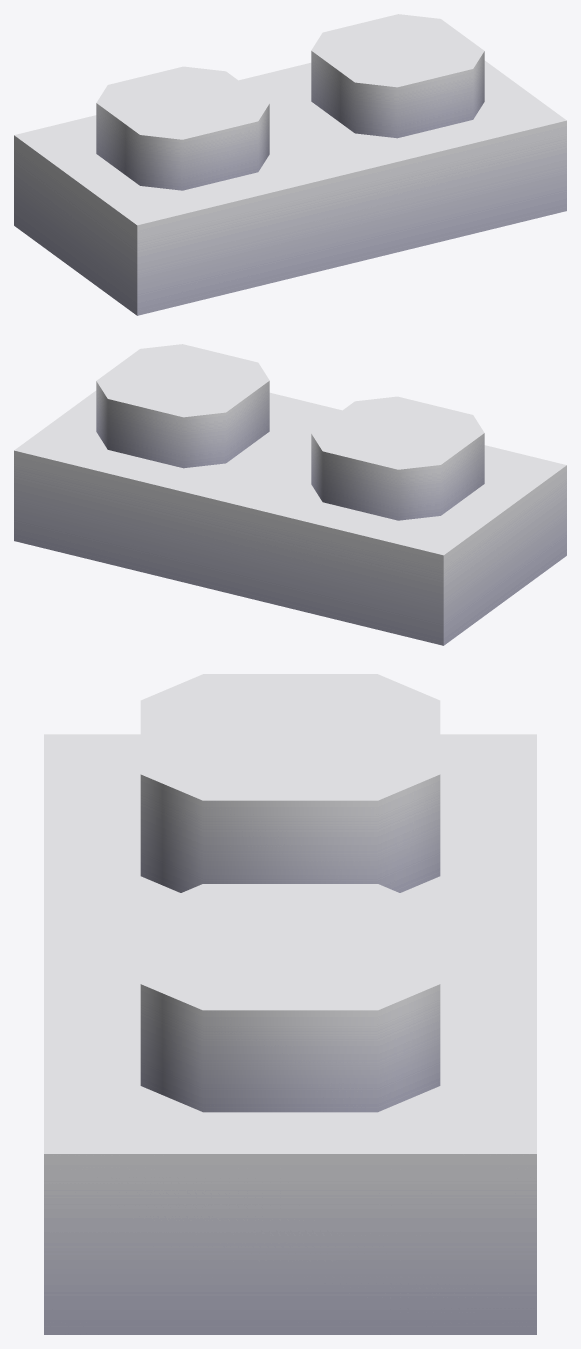
Rendered from bevel-lq-plate-1x2.glb.
The picture shows the model from 3 angles, top to bottom: view 1: azimuth 30°, elevation 25°; view 2: azimuth 150°, elevation 25°; view 3: azimuth 270°, elevation 25°; orthographic projection. The views are drawn at different scales.
Visible parts, largest first — view 1: bevel-lq-plate-1x2; view 2: bevel-lq-plate-1x2; view 3: bevel-lq-plate-1x2.
Part boxes in pixels (x1,y1,x2,y2): bevel-lq-plate-1x2: [14, 14, 566, 315]; bevel-lq-plate-1x2: [14, 344, 566, 645]; bevel-lq-plate-1x2: [44, 674, 536, 1334].
Bounding box in the file's own units: 0.159 × 0.05 × 0.079.
1 material, 1 textured.
